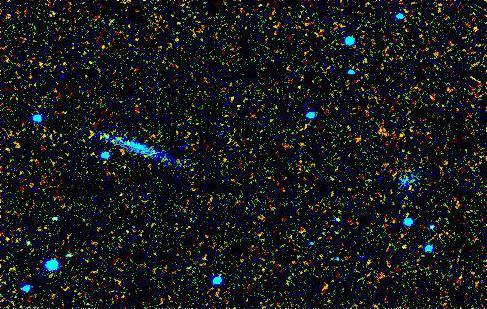star: (386, 234, 416, 264)
